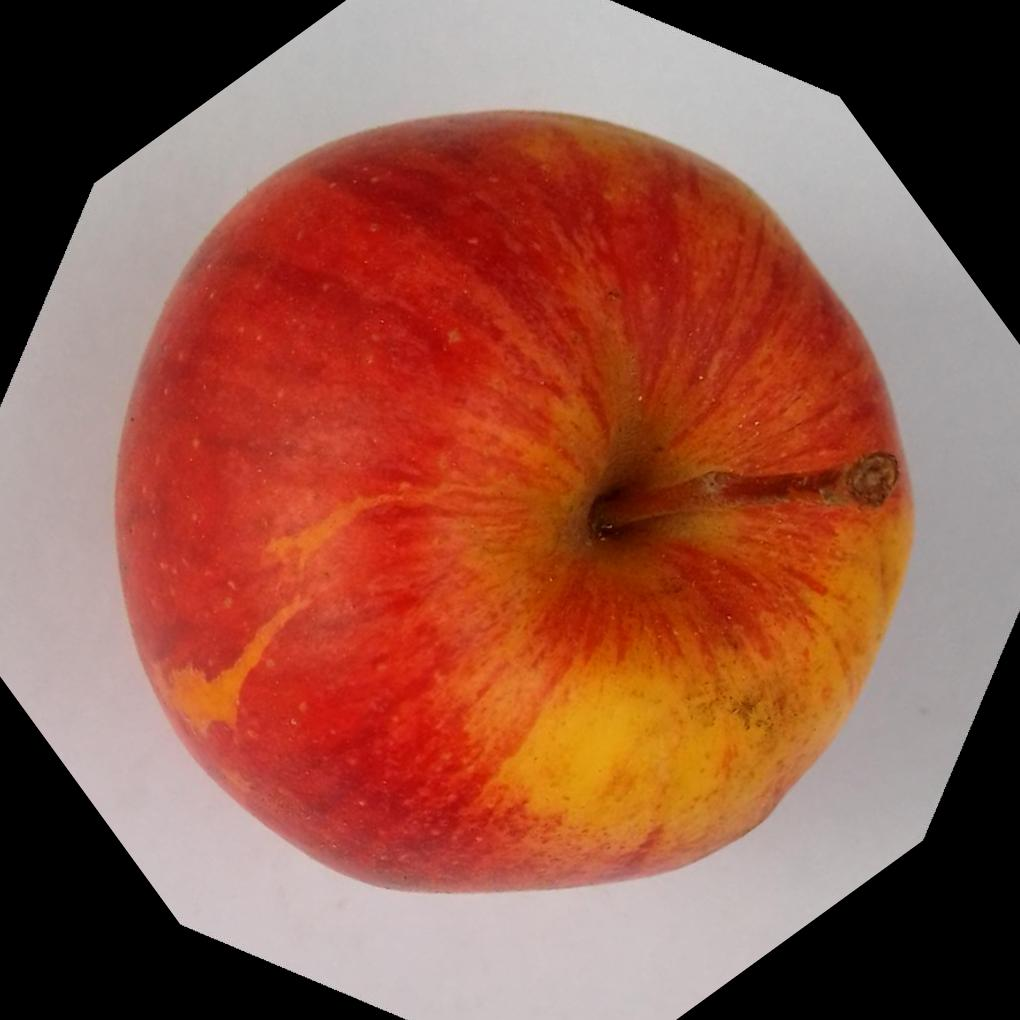FreshGuava: (114, 105, 920, 895)
